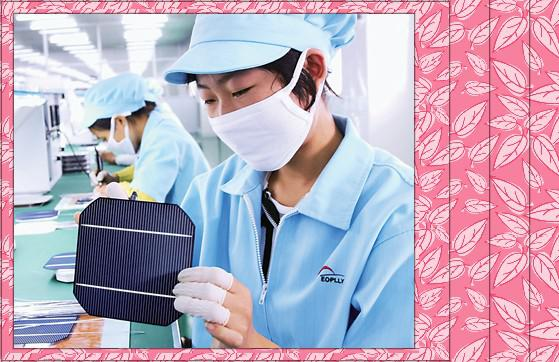OK: (203, 66, 308, 171), (100, 118, 135, 158)
